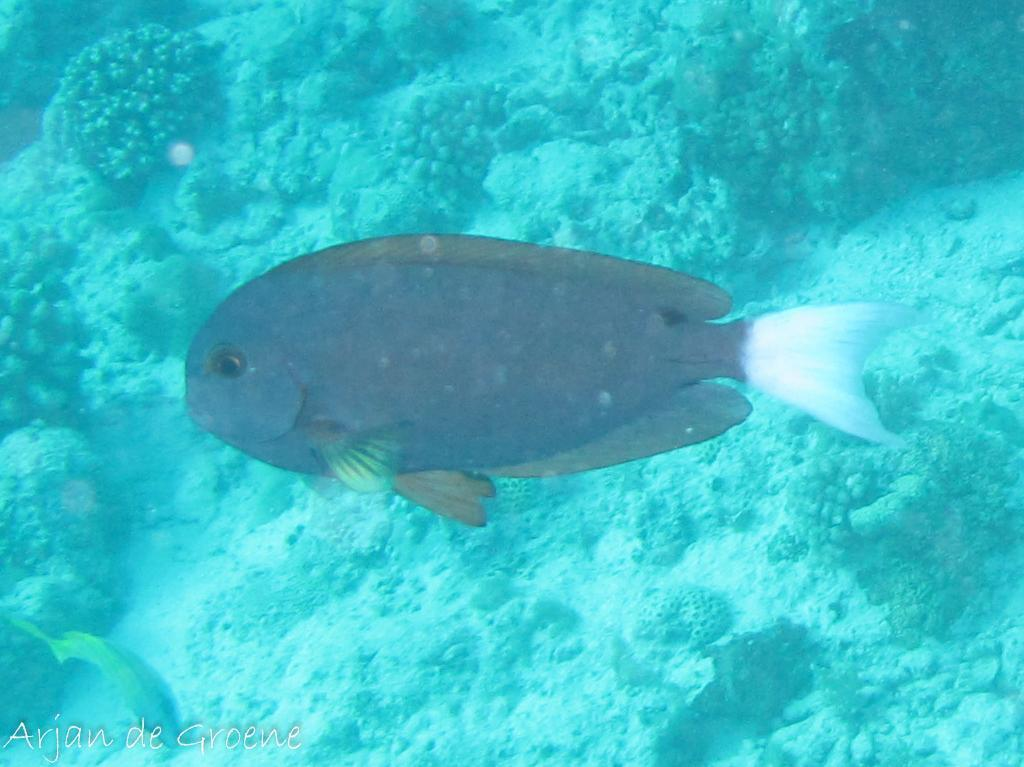Fish: (108, 181, 900, 563)
